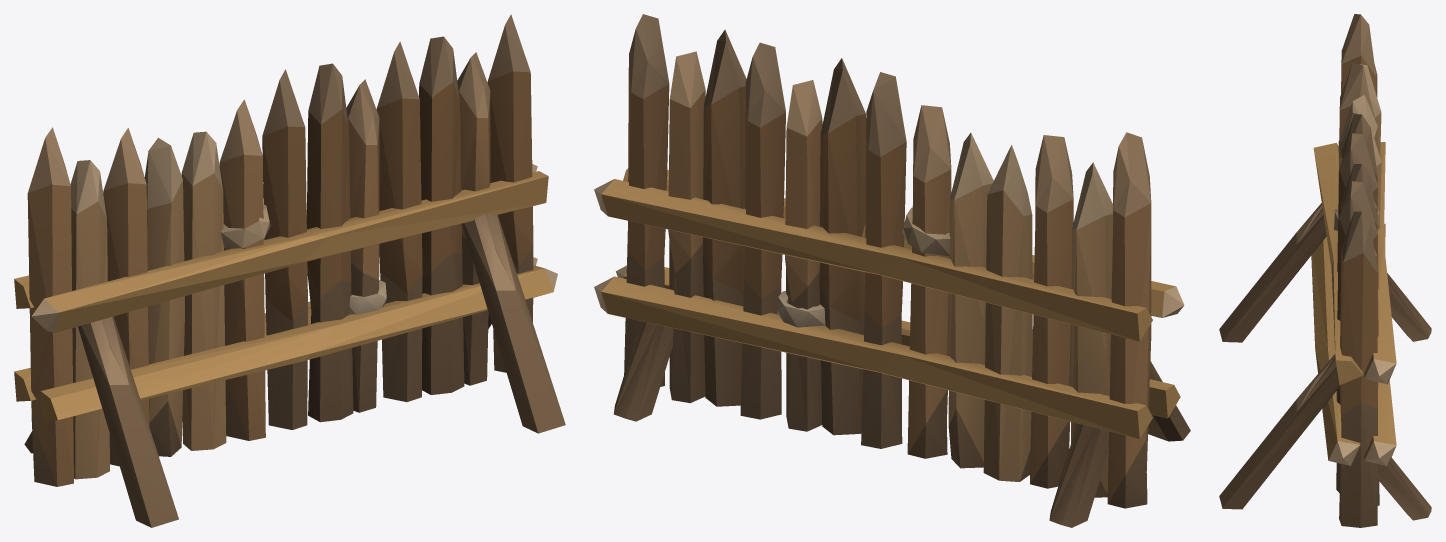
Rendered from fence_palisade_e_low.glb.
3 views of the same model, side by side, from view 1: azimuth 30°, elevation 25°; view 2: azimuth 150°, elevation 25°; view 3: azimuth 270°, elevation 25° (orthographic). The views are drawn at different scales.
Size of the model in its own units: 2.4 by 1.51 by 0.9362.
